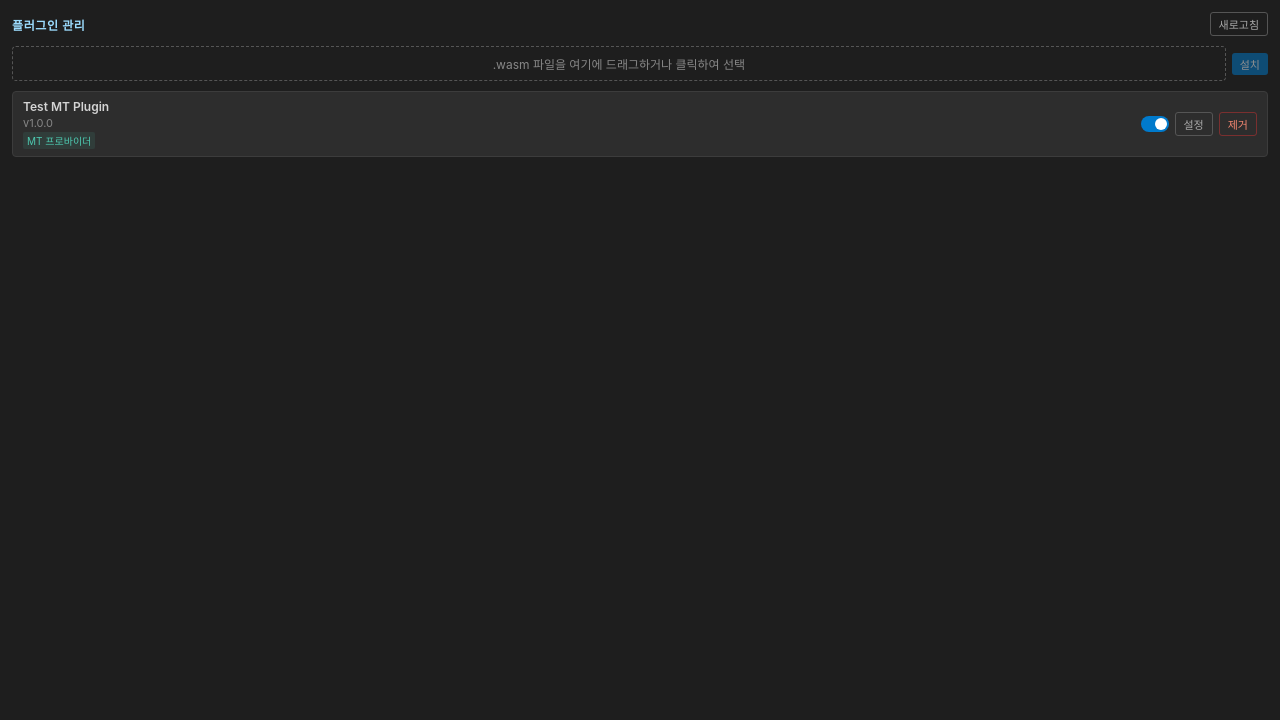
Test: PluginManager › opens config modal when 설정 clicked
This screenshot has width=1280, height=720.
Click the button "설정". click: (1194, 124)
box: [1174,112,1213,136]
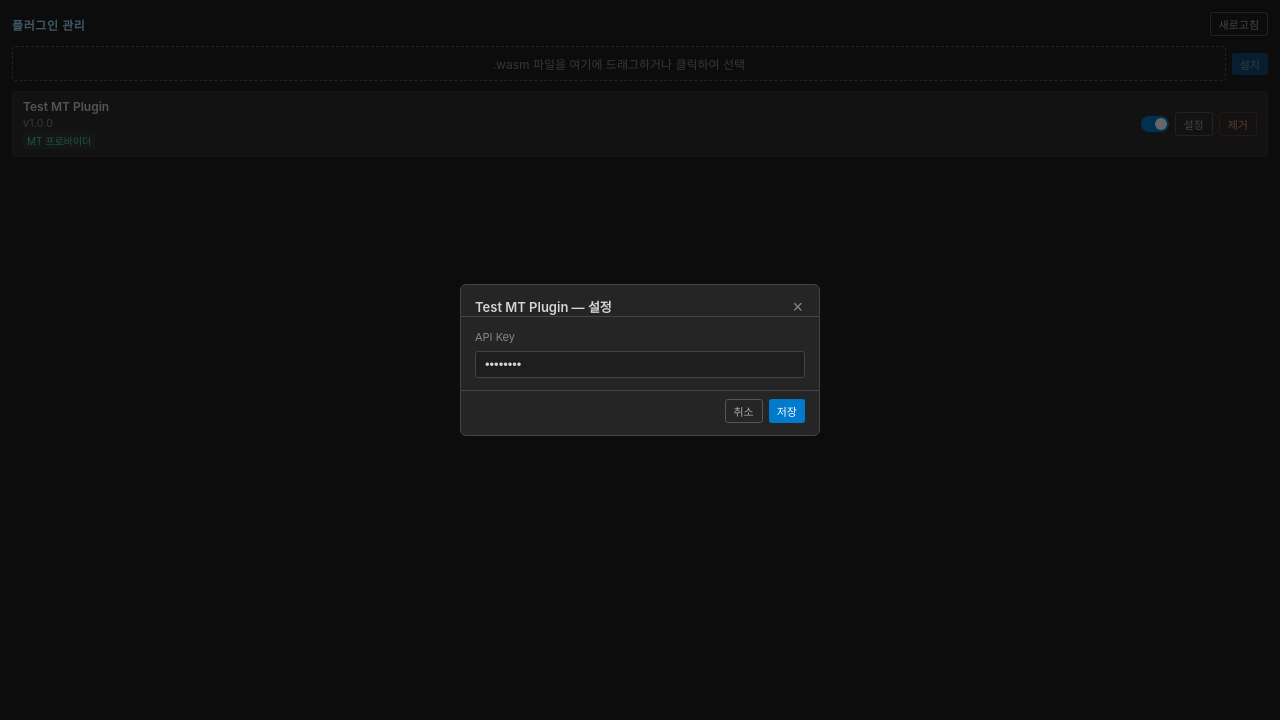
Expected: the dialog is shown
